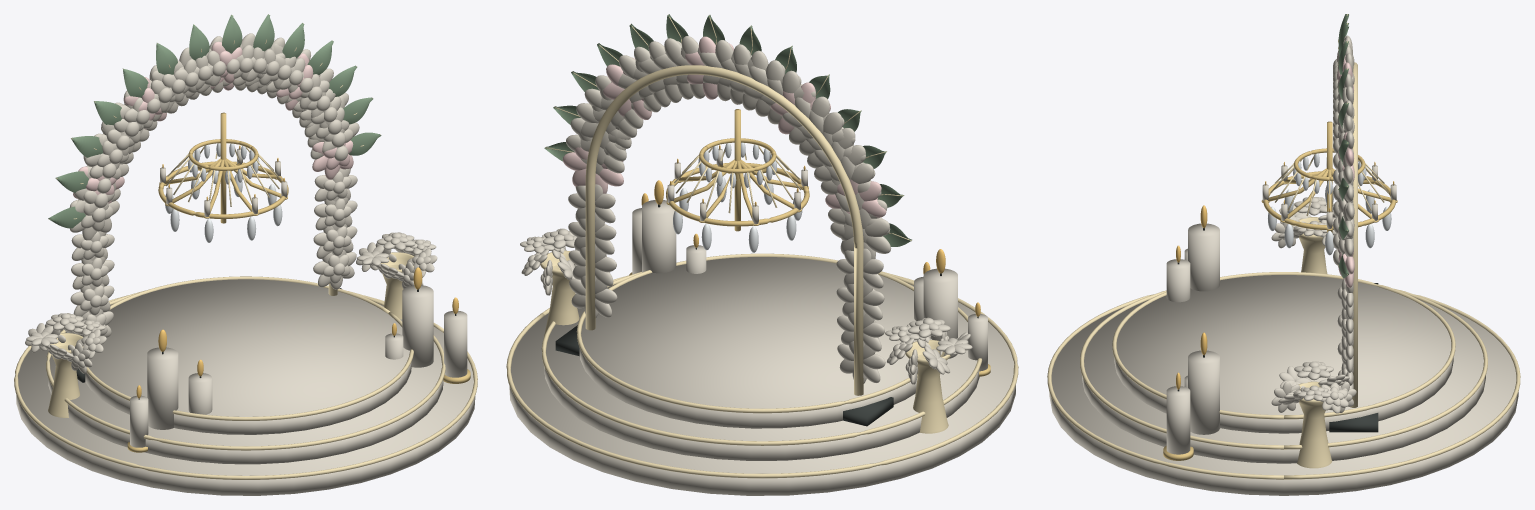
The model's file is scene-wedding-portal.glb.
The picture shows the model from 3 angles, left to right: view 1: azimuth 30°, elevation 25°; view 2: azimuth 150°, elevation 25°; view 3: azimuth 270°, elevation 25°; orthographic projection. The views are drawn at different scales.
Visible parts, largest first — view 1: stage-0, petals-8, wax-10, gold-trims-1, leaf-6, heart-5, frame-9, petals-4, vase-16, crystals-14, chains-15, flame-13; view 2: stage-0, petals-8, gold-trims-1, wax-10, arch-frame-2, leaf-6, petals-4, frame-9, vase-16, crystals-14, feet-3, chains-15 (+1 smaller); view 3: stage-0, gold-trims-1, wax-10, petals-8, vase-16, frame-9, crystals-14, arch-frame-2, heart-5, leaf-6, feet-3, chains-15 (+1 smaller).
Part boxes in pixels (left/top/right/bottom): stage-0: left=16, top=279, right=475, bottom=495; petals-8: left=25, top=33, right=437, bottom=373; wax-10: left=130, top=148, right=467, bottom=447; gold-trims-1: left=14, top=276, right=477, bottom=479; leaf-6: left=48, top=14, right=381, bottom=228; heart-5: left=40, top=58, right=423, bottom=363; frame-9: left=158, top=112, right=288, bottom=223; petals-4: left=73, top=41, right=353, bottom=203; vase-16: left=46, top=252, right=414, bottom=417; crystals-14: left=165, top=143, right=282, bottom=242; chains-15: left=166, top=145, right=281, bottom=206; flame-13: left=136, top=145, right=458, bottom=398; stage-0: left=509, top=257, right=1015, bottom=495; petals-8: left=520, top=36, right=972, bottom=384; gold-trims-1: left=506, top=253, right=1018, bottom=478; wax-10: left=632, top=149, right=987, bottom=371; arch-frame-2: left=585, top=65, right=863, bottom=395; leaf-6: left=544, top=14, right=911, bottom=246; petals-4: left=562, top=36, right=886, bottom=217; frame-9: left=666, top=109, right=809, bottom=231; vase-16: left=540, top=250, right=950, bottom=433; crystals-14: left=673, top=142, right=802, bottom=252; feet-3: left=555, top=325, right=893, bottom=426; chains-15: left=674, top=145, right=801, bottom=213; stage-0: left=1049, top=275, right=1518, bottom=495; gold-trims-1: left=1047, top=272, right=1520, bottom=479; wax-10: left=1166, top=160, right=1396, bottom=454; petals-8: left=1271, top=35, right=1356, bottom=413; vase-16: left=1297, top=217, right=1332, bottom=468; frame-9: left=1263, top=121, right=1395, bottom=232; crystals-14: left=1268, top=153, right=1391, bottom=255; arch-frame-2: left=1350, top=62, right=1357, bottom=407; heart-5: left=1290, top=59, right=1347, bottom=400; leaf-6: left=1338, top=14, right=1348, bottom=278; feet-3: left=1329, top=283, right=1378, bottom=432; chains-15: left=1270, top=154, right=1388, bottom=216.
Bounding box in the file's own units: 3.95 × 3.34 × 3.93.
